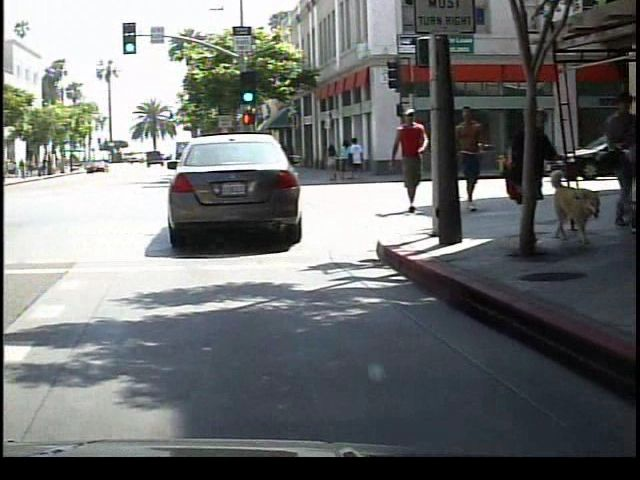person: (386, 101, 430, 222), (449, 100, 491, 219)
